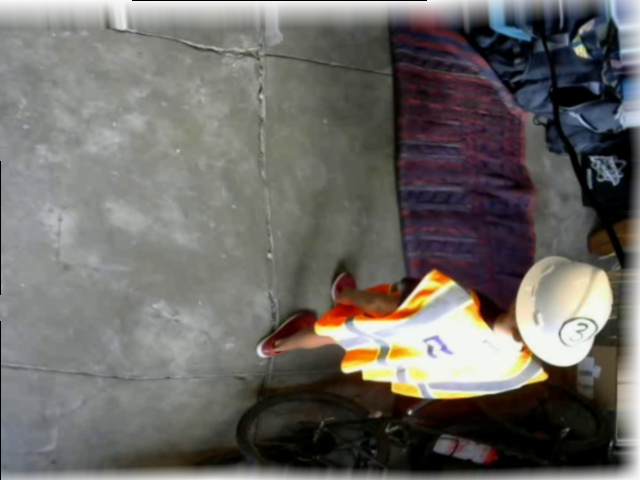three: (559, 316, 598, 346)
